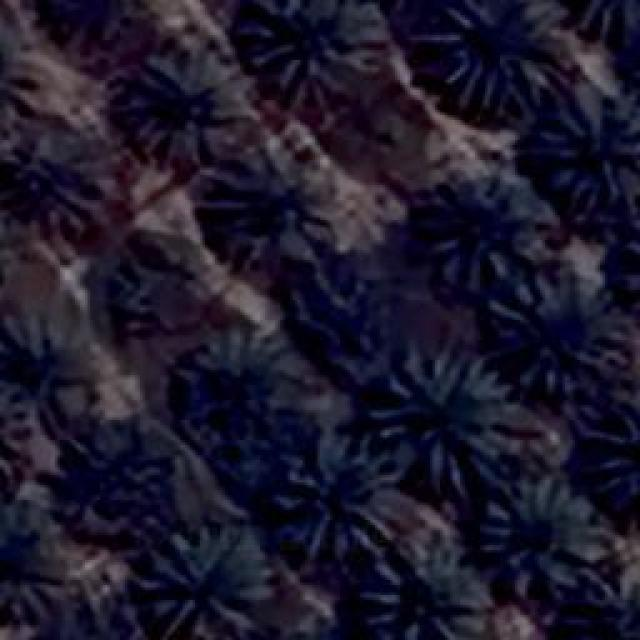PalmTree: (197, 125, 345, 265), (375, 348, 520, 490), (480, 470, 608, 600), (430, 0, 570, 118), (508, 270, 628, 400), (180, 352, 315, 466), (140, 528, 268, 638), (250, 0, 387, 102), (282, 440, 396, 558), (428, 176, 540, 294), (365, 530, 490, 635), (532, 90, 638, 210), (304, 246, 408, 364), (0, 111, 100, 219), (72, 438, 192, 526), (131, 54, 241, 148), (98, 237, 190, 345), (0, 509, 80, 619), (580, 401, 640, 511), (27, 0, 146, 48), (6, 322, 79, 392), (62, 596, 172, 640), (567, 0, 640, 46), (0, 391, 28, 505), (540, 613, 639, 640), (540, 614, 640, 640)
